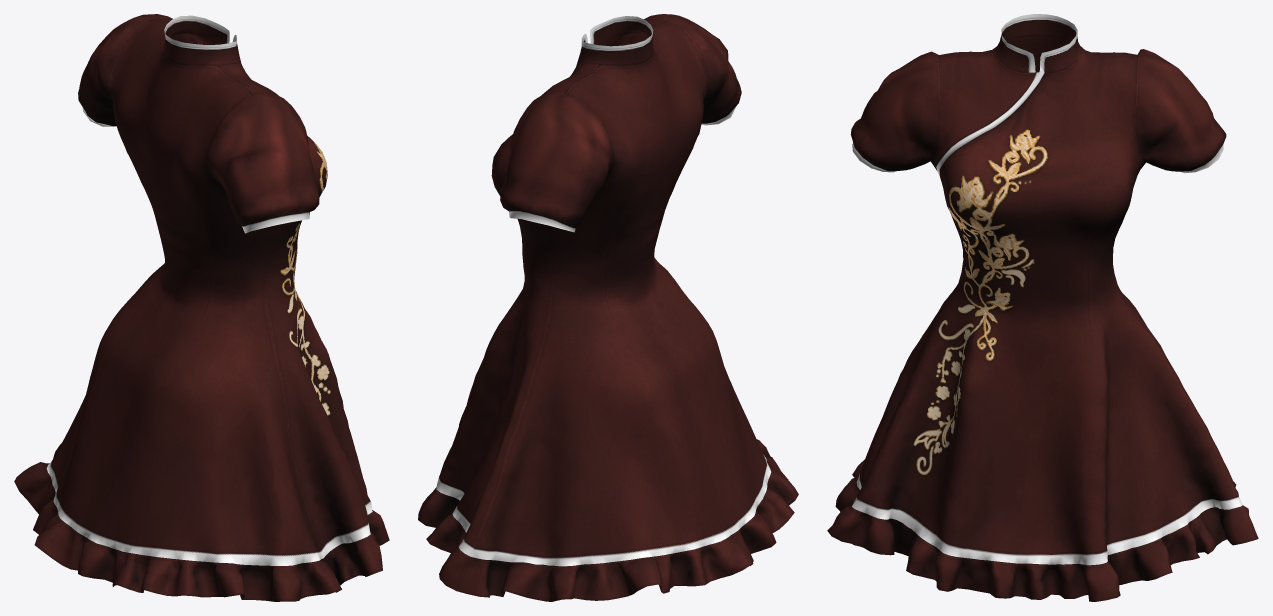
File: 6 female-asian-lolita-mini-dress.glb
3 views of the same model, side by side, from view 1: azimuth 30°, elevation 25°; view 2: azimuth 150°, elevation 25°; view 3: azimuth 270°, elevation 25° (orthographic). The views are drawn at different scales.
Parts seen in each view (by area): view 1: dress; view 2: dress; view 3: dress.
Boxes of the visible parts, bbox=[...] form: dress: bbox=[14, 14, 389, 601]; dress: bbox=[418, 14, 798, 601]; dress: bbox=[827, 14, 1258, 601].
Size of the model in its own units: 0.5889 by 0.9181 by 0.7095.
1 material, 1 textured.
